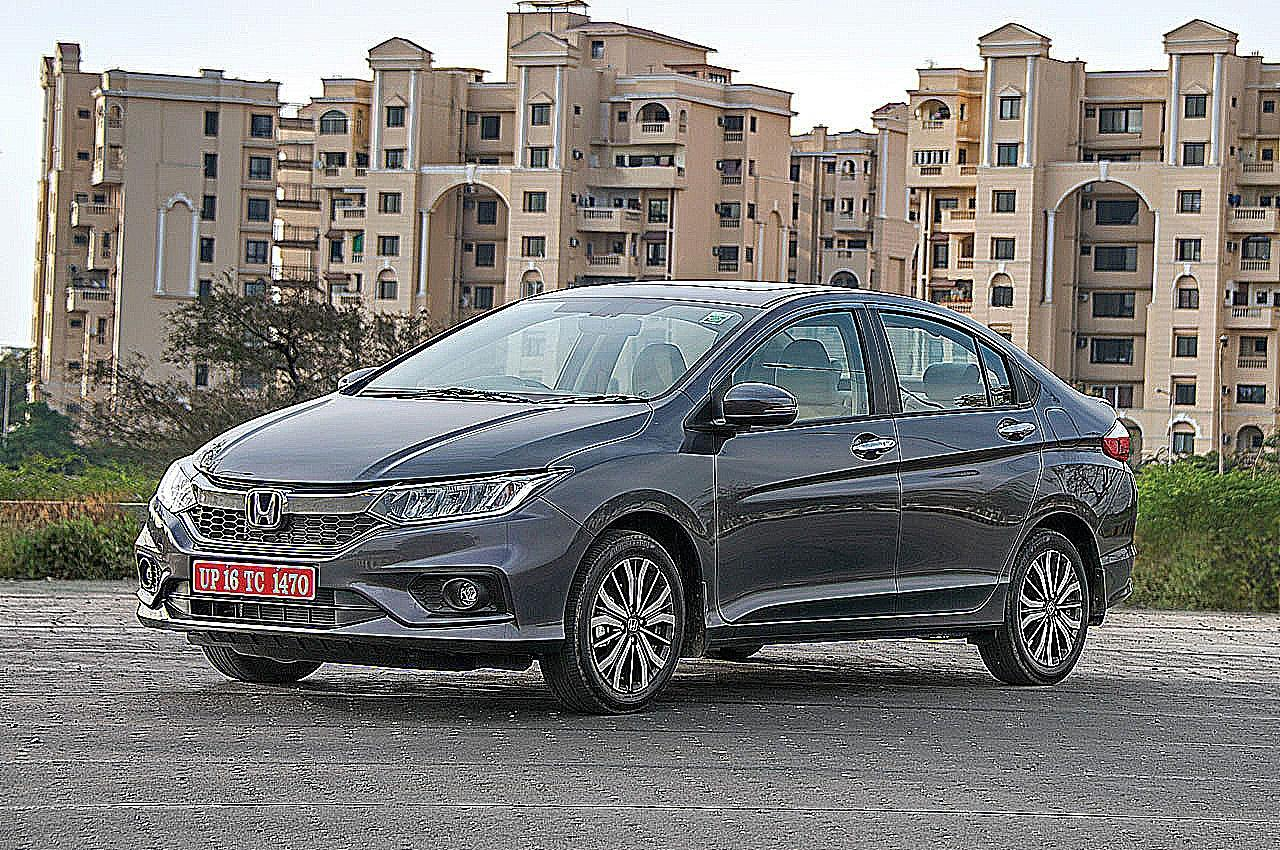Car hood: (187, 386, 657, 488)
Fender - -F-L-: (533, 384, 717, 640)
Fender - -R-L-: (996, 383, 1122, 626)
Front bumper: (129, 506, 583, 663)
Headlight - -L-: (363, 462, 582, 533)
Headlight - -R-: (150, 456, 203, 522)
Passenger-s door - -F-L-: (717, 296, 900, 627)
Passenger-s door - -R-L-: (899, 296, 1044, 627)
Rear bumper: (1092, 466, 1147, 629)
Rear light - -L-: (1096, 413, 1146, 472)
Side bumper - -L-: (684, 579, 1016, 645)
Side mirror - -L-: (707, 376, 803, 444)
Side mirror - -R-: (327, 357, 382, 404)
